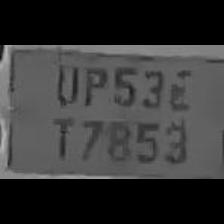3: (161, 114, 189, 166), (140, 64, 164, 110)
5: (108, 60, 138, 108), (132, 116, 160, 164)
7: (75, 115, 103, 163)
8: (103, 116, 131, 164)
P: (79, 60, 109, 108)
T: (47, 113, 77, 162)
U: (50, 56, 78, 106)
